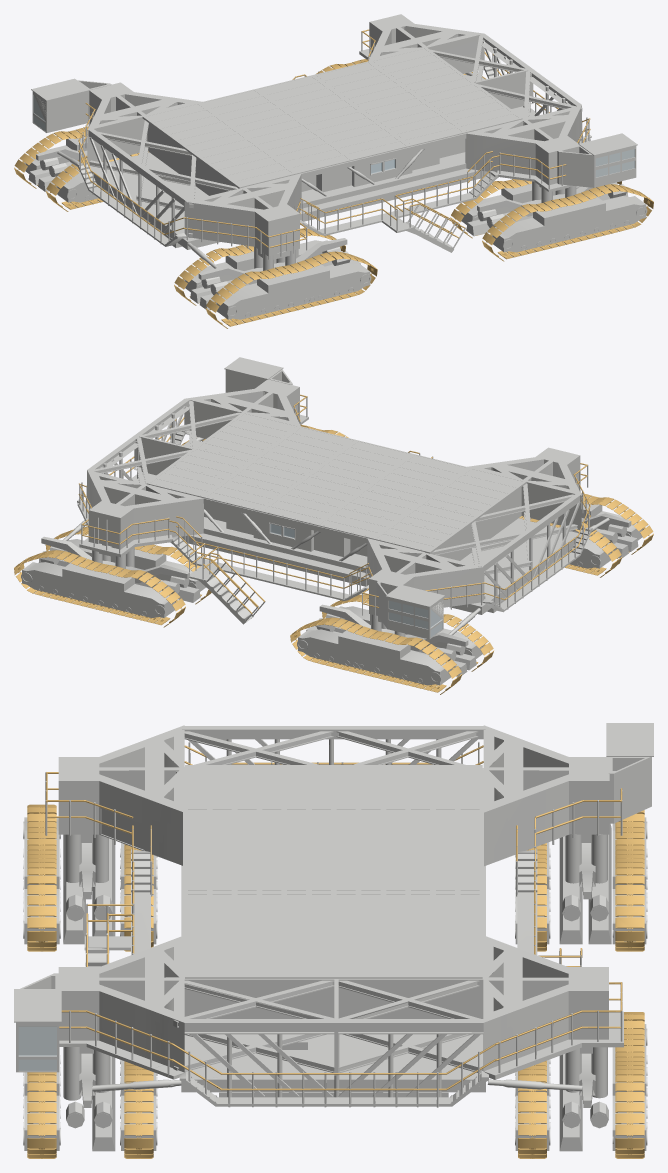
File: crawler-transporter.glb
3 renders of one model, top to bottom at view 1: azimuth 30°, elevation 25°; view 2: azimuth 150°, elevation 25°; view 3: azimuth 270°, elevation 25°, orthographic. The views are drawn at different scales.
Parts seen in each view (by area): view 1: polySurface1; view 2: polySurface1; view 3: polySurface1.
Part boxes in pixels (x1,y1,x2,y2): polySurface1: (14, 14, 653, 328); polySurface1: (14, 357, 653, 694); polySurface1: (14, 723, 653, 1158).
Size of the model in its own units: 40 by 7.74 by 32.81.
